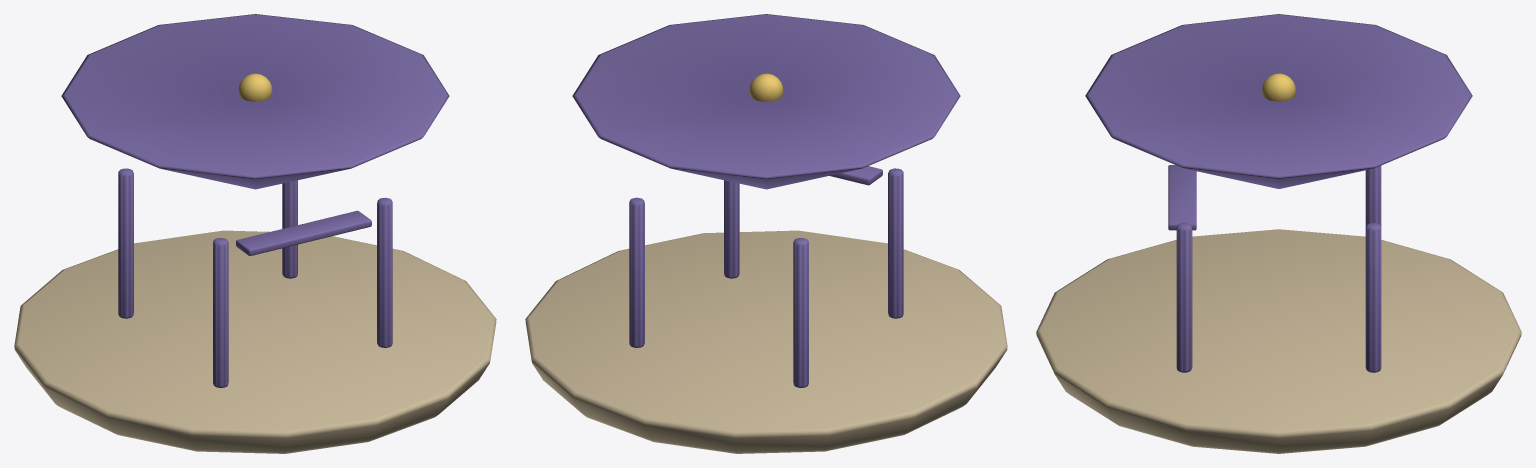
3 renders of one model, left to right at view 1: azimuth 30°, elevation 25°; view 2: azimuth 150°, elevation 25°; view 3: azimuth 270°, elevation 25°, orthographic.
Visible parts, largest first — view 1: landmark_79b9c30e; view 2: landmark_79b9c30e; view 3: landmark_79b9c30e.
Boxes of the visible parts, <box> form: landmark_79b9c30e: <box>14,14,496,453</box>; landmark_79b9c30e: <box>525,14,1007,453</box>; landmark_79b9c30e: <box>1036,14,1521,453</box>.
Size of the model in its own units: 5.13 by 3.33 by 5.13.
